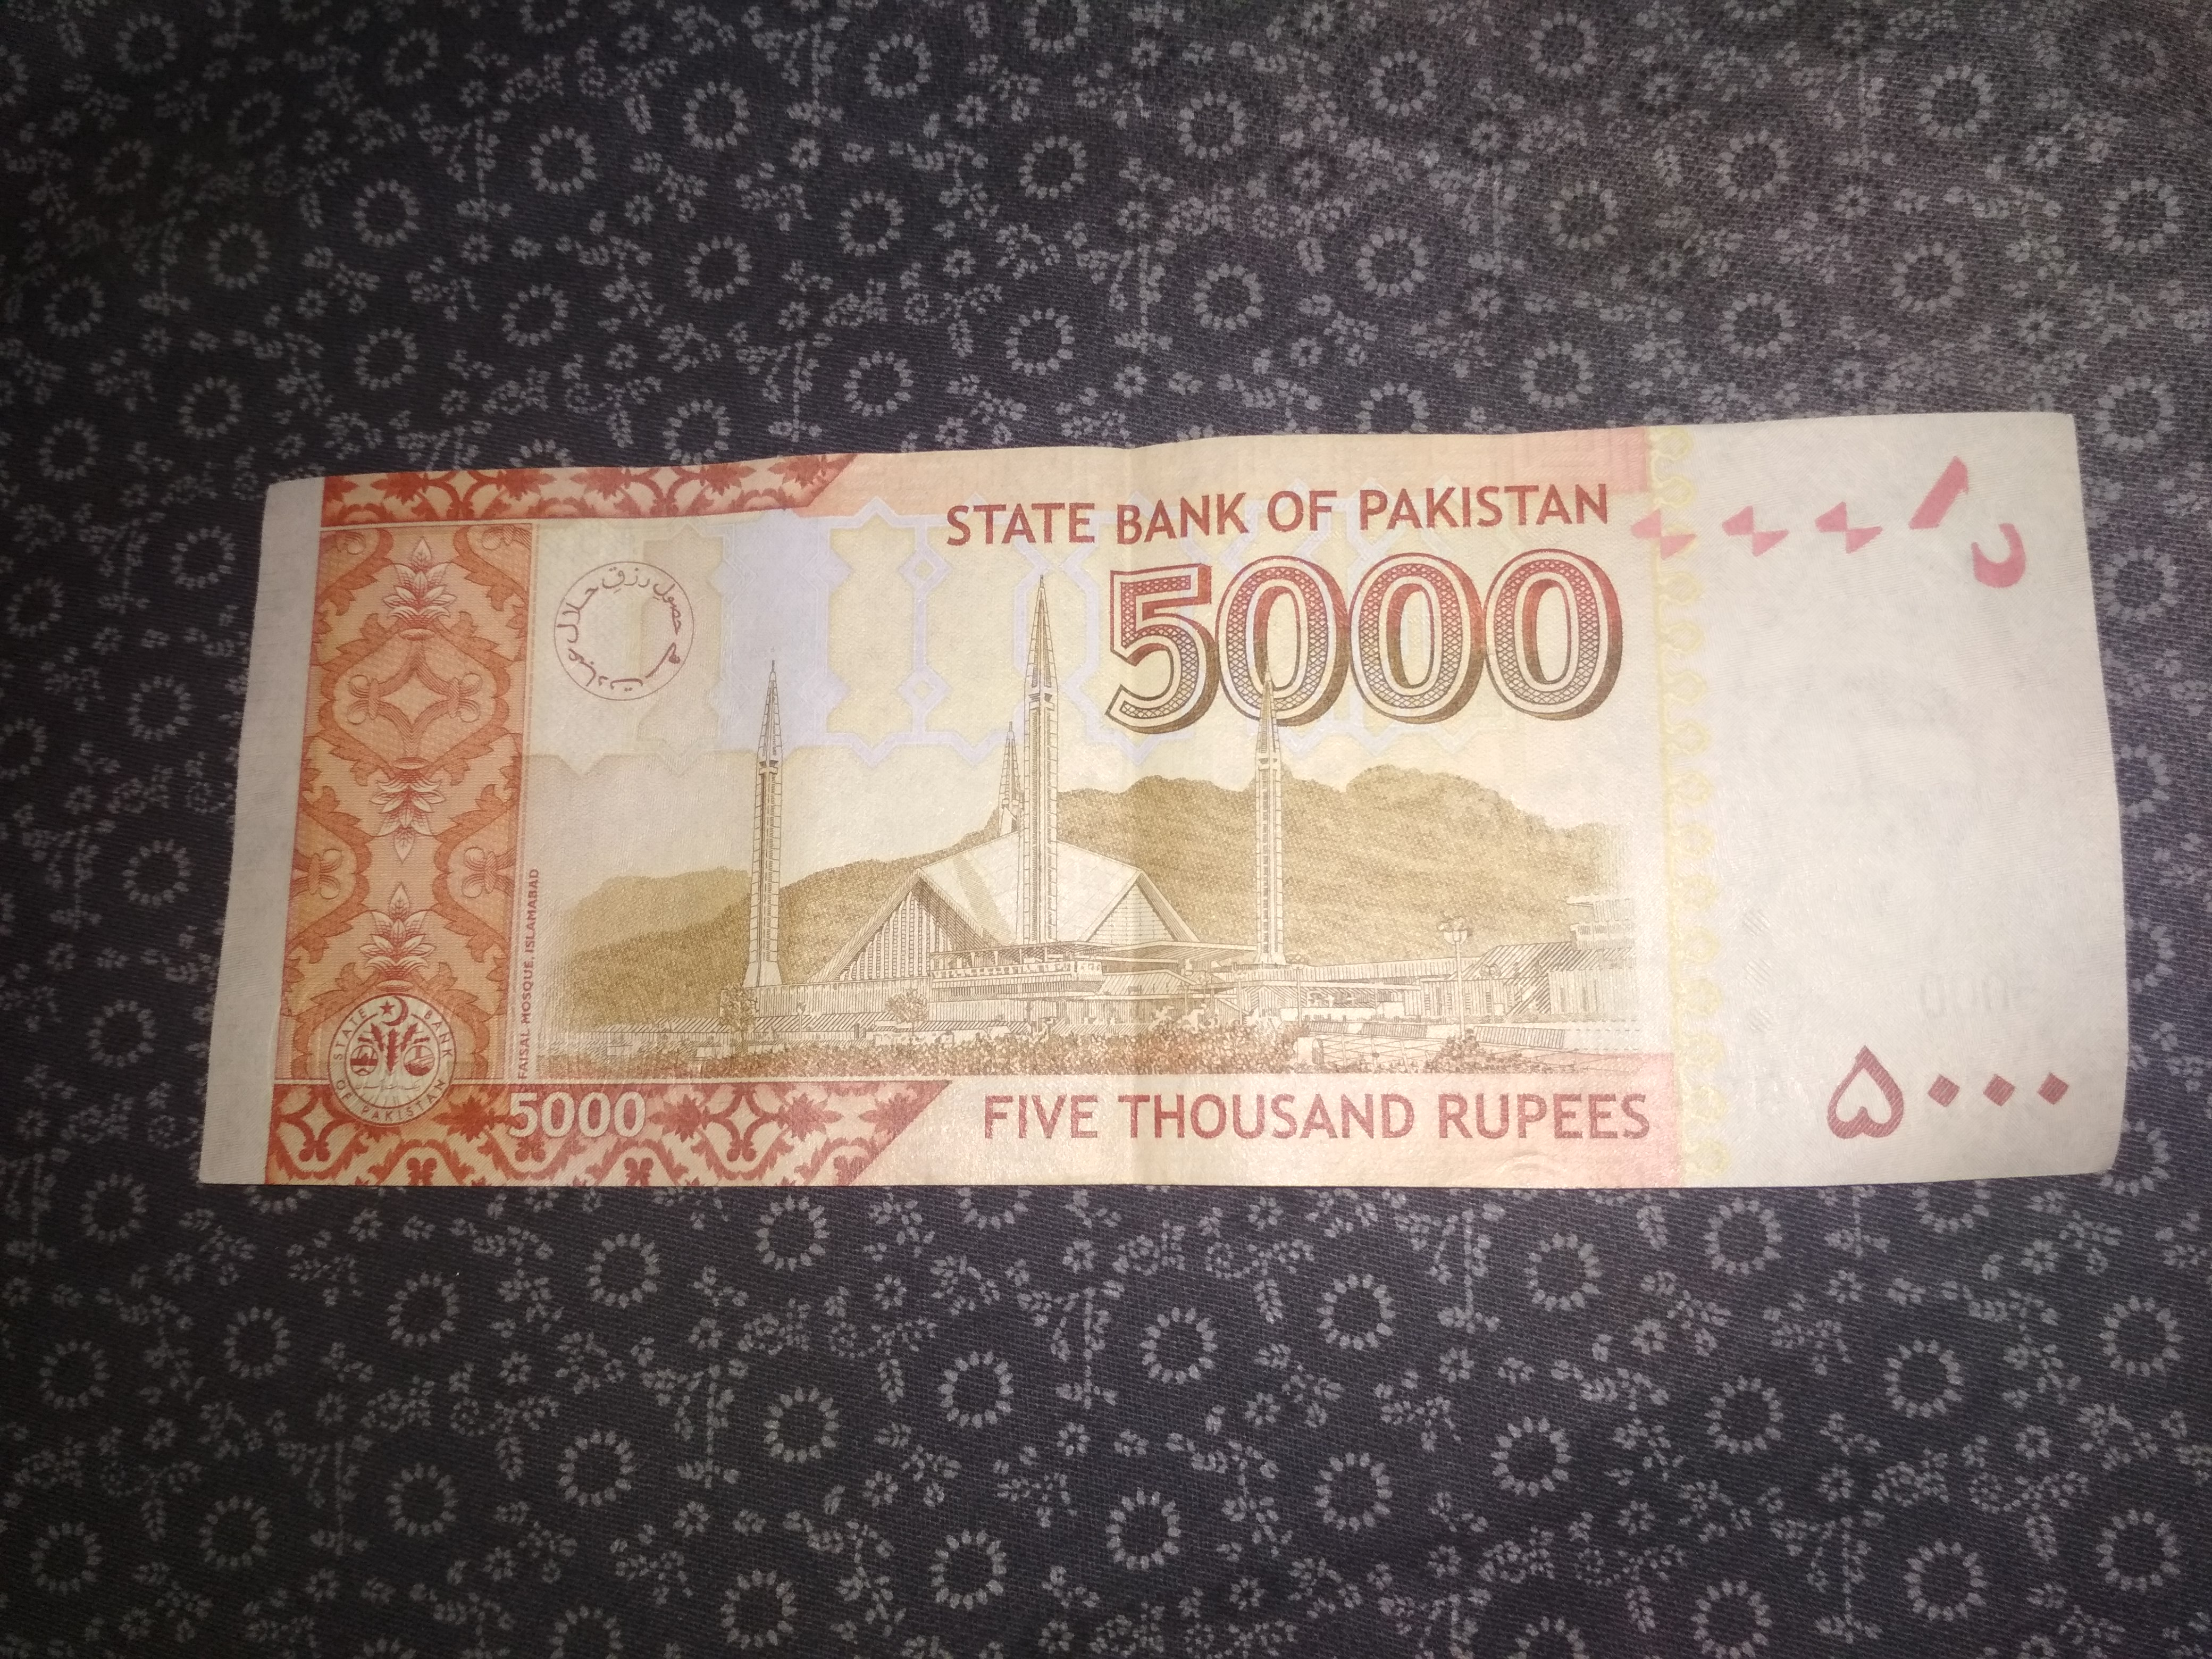5000 rupee: (192, 423, 2097, 1225)
